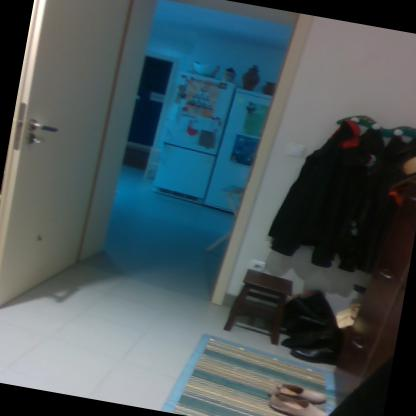open: (0, 0, 292, 353)
